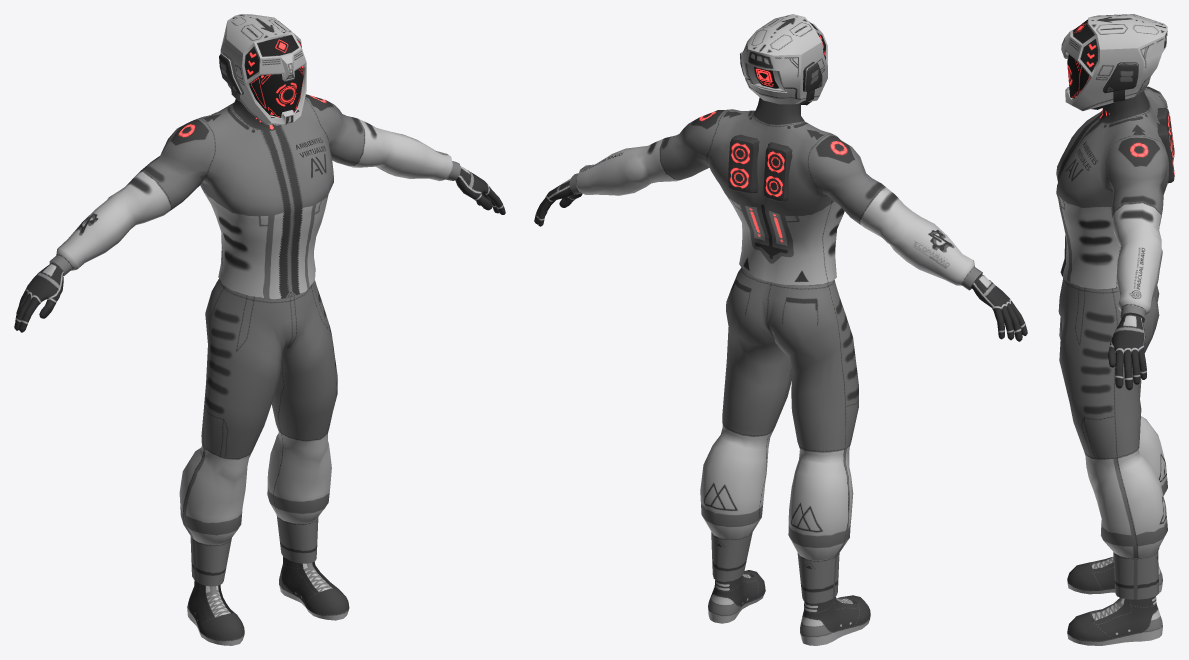
Rendered from tje_#1.fbx.
3 views of the same model, side by side, from view 1: azimuth 30°, elevation 25°; view 2: azimuth 150°, elevation 25°; view 3: azimuth 270°, elevation 25° (orthographic).
Parts seen in each view (by area): view 1: tje_#1; view 2: tje_#1; view 3: tje_#1.
Part boxes in pixels (x1,y1,x2,y2): tje_#1: (14, 14, 505, 645); tje_#1: (534, 14, 1027, 645); tje_#1: (1056, 14, 1174, 645).
Size of the model in its own units: 148 by 172 by 31.09.
1 material, 1 textured.
